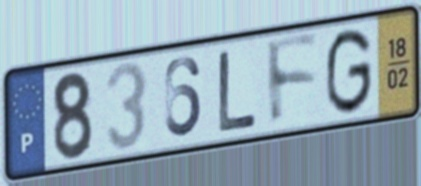3: (103, 57, 152, 156)
6: (162, 55, 205, 142)
8: (49, 68, 96, 163)
F: (264, 31, 322, 132)
G: (323, 25, 375, 118)
L: (216, 47, 261, 136)
